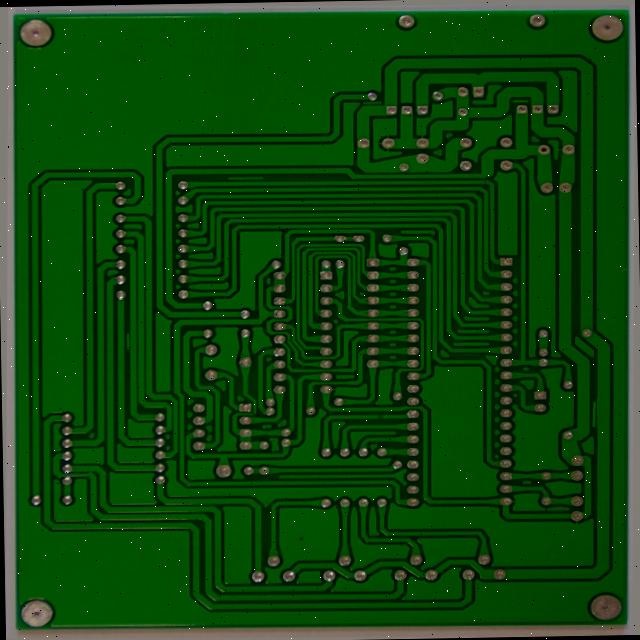spurious_copper: (219, 171, 262, 181), (596, 395, 608, 425), (355, 92, 380, 101), (118, 333, 128, 354), (509, 90, 529, 100)
